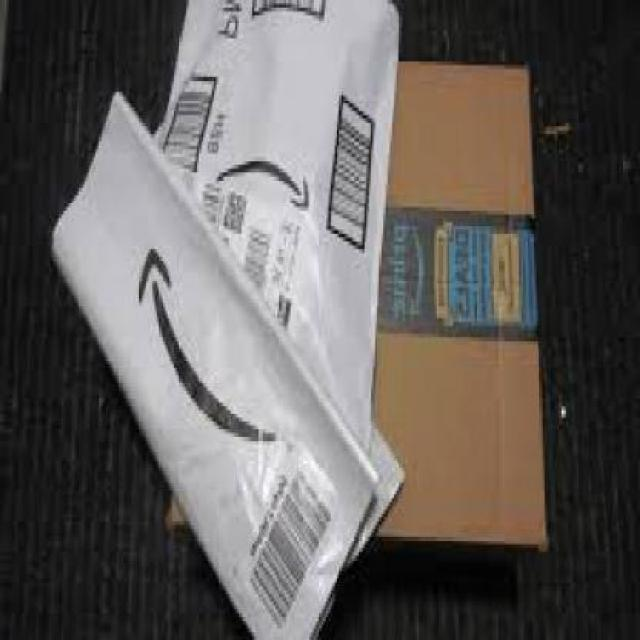cardboxes: (338, 53, 550, 567)
